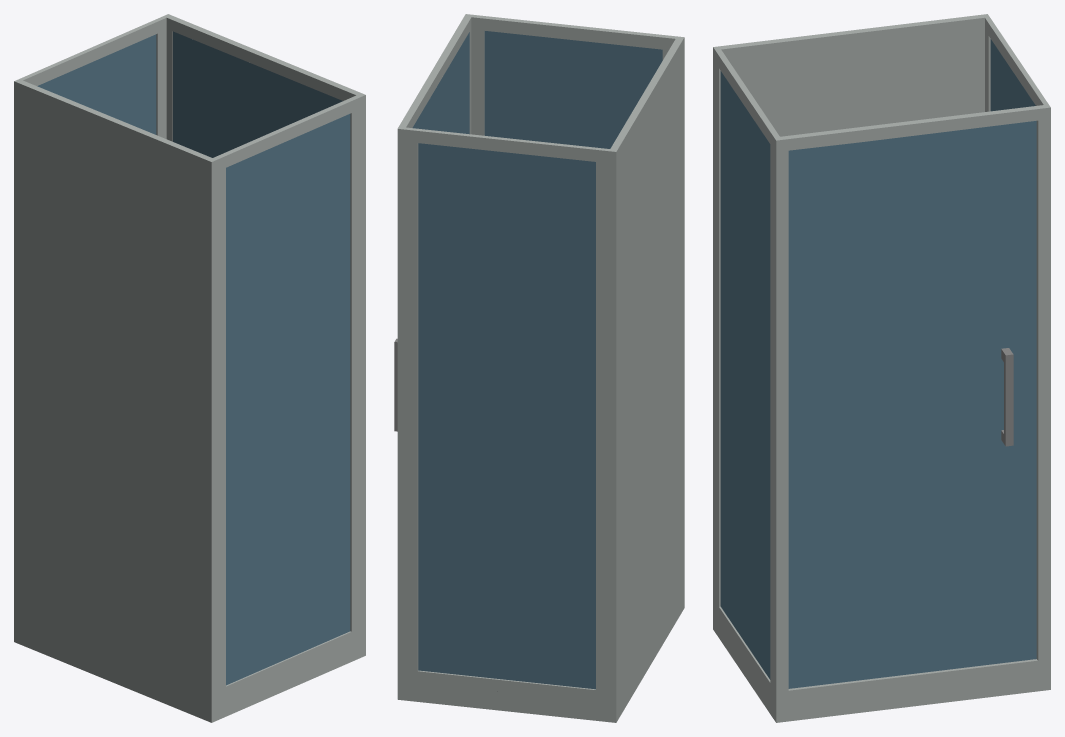
The model's file is shower.fbx.
3 views of the same model, side by side, from view 1: azimuth 30°, elevation 25°; view 2: azimuth 150°, elevation 25°; view 3: azimuth 270°, elevation 25° (orthographic). The views are drawn at different scales.
Parts seen in each view (by area): view 1: shower; view 2: shower; view 3: shower.
Part boxes in pixels (x1,y1,x2,y2): shower: [14, 14, 365, 722]; shower: [394, 14, 684, 722]; shower: [713, 14, 1050, 722].
Bounding box in the file's own units: 104 × 224 × 118.
